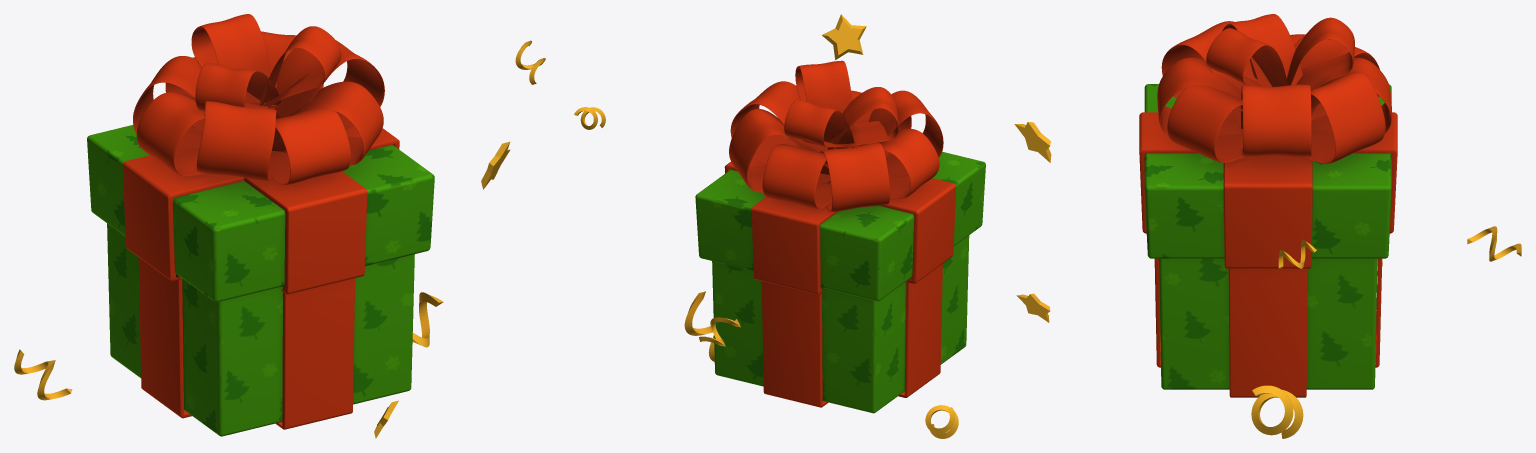
The model's file is gift_box.glb.
The picture shows the model from 3 angles, left to right: view 1: azimuth 30°, elevation 25°; view 2: azimuth 150°, elevation 25°; view 3: azimuth 270°, elevation 25°; orthographic projection. The views are drawn at different scales.
Parts seen in each view (by area): view 1: Object_13, Object_8, Object_10, Object_6, Object_2, Object_5, Object_12, Object_3, Object_4, Object_11, Object_14, Object_15 (+1 smaller); view 2: Object_13, Object_11, Object_9, Object_7, Object_6, Object_2, Object_4, Object_3, Object_5, Object_8, Object_14, Object_15; view 3: Object_13, Object_5, Object_7, Object_12, Object_14, Object_4, Object_2, Object_10, Object_3, Object_8, Object_9, Object_11 (+1 smaller).
Part boxes in pixels (x1=…): Object_13: x1=87, y1=125, x2=434, y2=436; Object_8: x1=196, y1=101, x2=285, y2=180; Object_10: x1=268, y1=108, x2=350, y2=184; Object_6: x1=136, y1=92, x2=272, y2=176; Object_2: x1=191, y1=14, x2=270, y2=103; Object_5: x1=275, y1=40, x2=384, y2=152; Object_12: x1=274, y1=81, x2=383, y2=165; Object_3: x1=195, y1=63, x2=280, y2=110; Object_4: x1=260, y1=26, x2=341, y2=107; Object_11: x1=133, y1=56, x2=202, y2=147; Object_14: x1=16, y1=40, x2=545, y2=438; Object_15: x1=14, y1=292, x2=438, y2=429; Object_13: x1=695, y1=136, x2=985, y2=413; Object_11: x1=819, y1=143, x2=889, y2=211; Object_9: x1=762, y1=144, x2=831, y2=208; Object_7: x1=729, y1=109, x2=830, y2=192; Object_6: x1=827, y1=128, x2=939, y2=198; Object_2: x1=784, y1=99, x2=854, y2=148; Object_4: x1=795, y1=60, x2=854, y2=129; Object_3: x1=827, y1=87, x2=898, y2=149; Object_5: x1=730, y1=81, x2=828, y2=181; Object_8: x1=859, y1=90, x2=943, y2=177; Object_14: x1=574, y1=14, x2=958, y2=438; Object_15: x1=684, y1=20, x2=948, y2=426; Object_13: x1=1139, y1=84, x2=1397, y2=397; Object_5: x1=1240, y1=84, x2=1311, y2=156; Object_7: x1=1301, y1=71, x2=1385, y2=163; Object_12: x1=1167, y1=84, x2=1245, y2=162; Object_14: x1=1014, y1=122, x2=1521, y2=438; Object_4: x1=1206, y1=28, x2=1287, y2=86; Object_2: x1=1286, y1=17, x2=1354, y2=89; Object_10: x1=1157, y1=57, x2=1242, y2=135; Object_3: x1=1222, y1=14, x2=1302, y2=86; Object_8: x1=1161, y1=21, x2=1245, y2=133; Object_9: x1=1311, y1=57, x2=1391, y2=133; Object_11: x1=1294, y1=33, x2=1379, y2=120.
Size of the model in its own units: 488 by 351 by 456.
3 materials, 3 textured.
